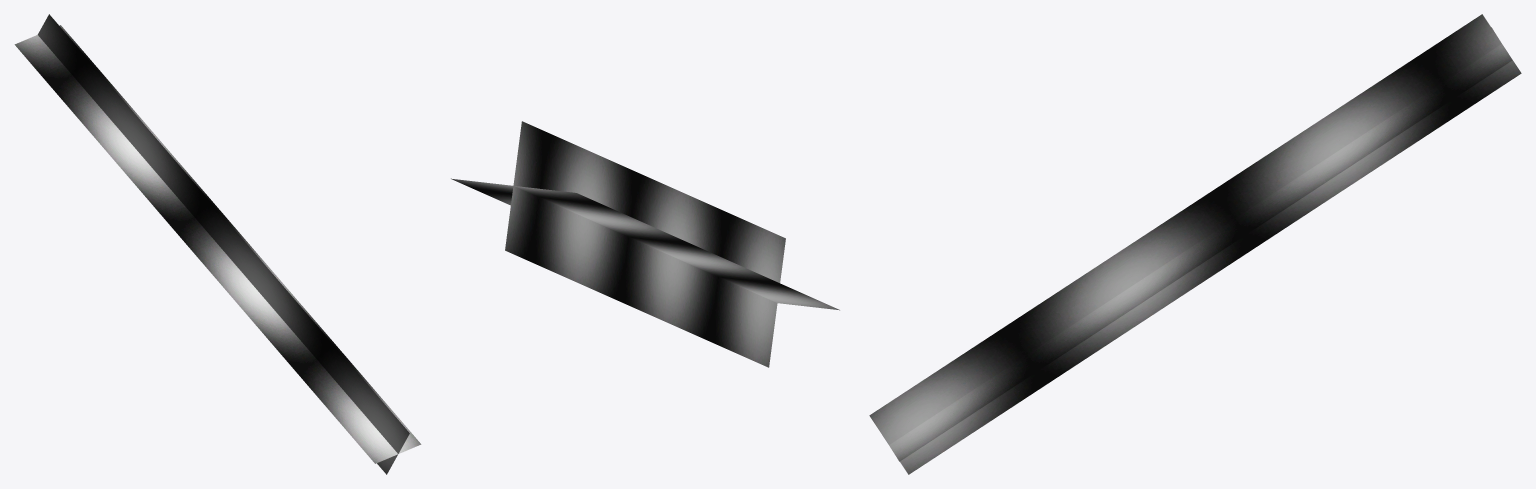
File: vfx_kurp_0749.dae
3 views of the same model, side by side, from view 1: azimuth 30°, elevation 25°; view 2: azimuth 150°, elevation 25°; view 3: azimuth 270°, elevation 25° (orthographic). The views are drawn at different scales.
Visible parts, largest first — view 1: vfx_kurp_0749; view 2: vfx_kurp_0749; view 3: vfx_kurp_0749.
Part boxes in pixels (bbox=[...]): vfx_kurp_0749: bbox=[14, 14, 421, 474]; vfx_kurp_0749: bbox=[451, 121, 839, 367]; vfx_kurp_0749: bbox=[869, 14, 1521, 474].
Size of the model in its own units: 0.537 by 1.44 by 0.9659.
Materials: 1 (1 with a texture image).
